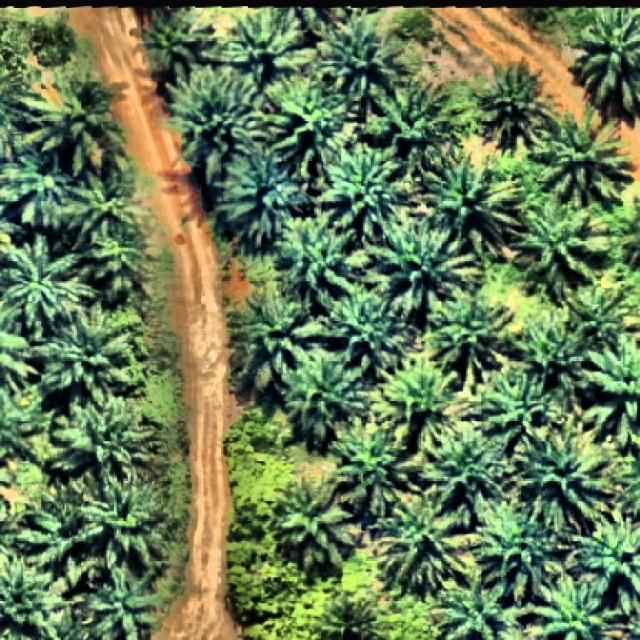Kelapa_Sawit: (158, 62, 271, 186), (418, 144, 527, 261), (363, 211, 480, 320), (509, 418, 617, 534), (16, 70, 127, 178), (33, 297, 139, 408), (532, 100, 636, 209), (426, 284, 526, 396), (507, 202, 613, 304), (476, 502, 578, 606), (262, 68, 360, 176), (315, 141, 420, 241), (19, 476, 112, 587), (416, 417, 522, 514), (76, 466, 170, 572), (376, 350, 474, 450), (218, 142, 308, 250), (371, 497, 471, 594), (316, 6, 418, 100), (238, 285, 326, 393), (51, 392, 157, 481), (270, 478, 359, 578), (368, 72, 466, 160), (326, 432, 424, 520), (278, 215, 367, 311), (472, 56, 566, 146), (280, 348, 366, 446), (473, 362, 569, 448), (328, 284, 414, 378), (509, 308, 594, 399), (226, 5, 320, 87), (62, 164, 135, 253), (561, 278, 640, 359)
